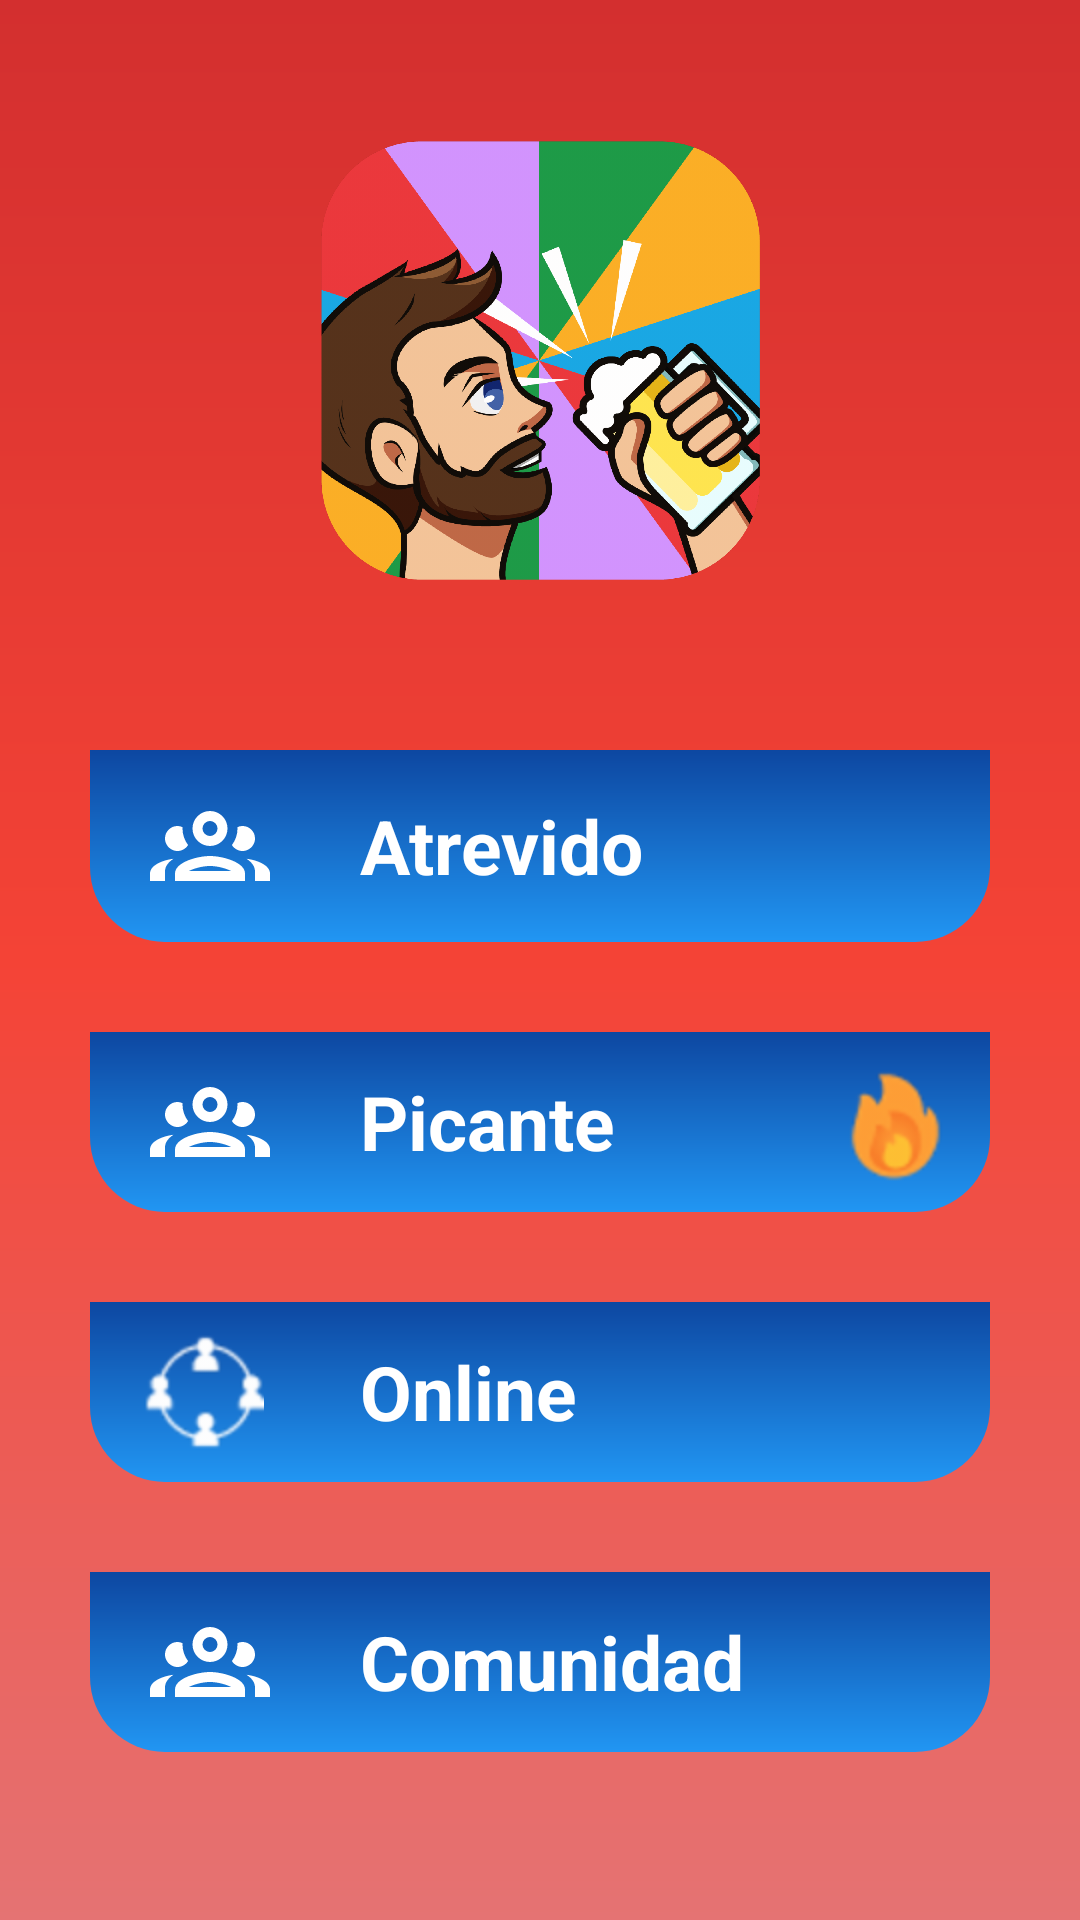

Where to tap for icons on this 1080 x 1920 app screen, as (x=x, y=y):
fire: (x=894, y=1122)
